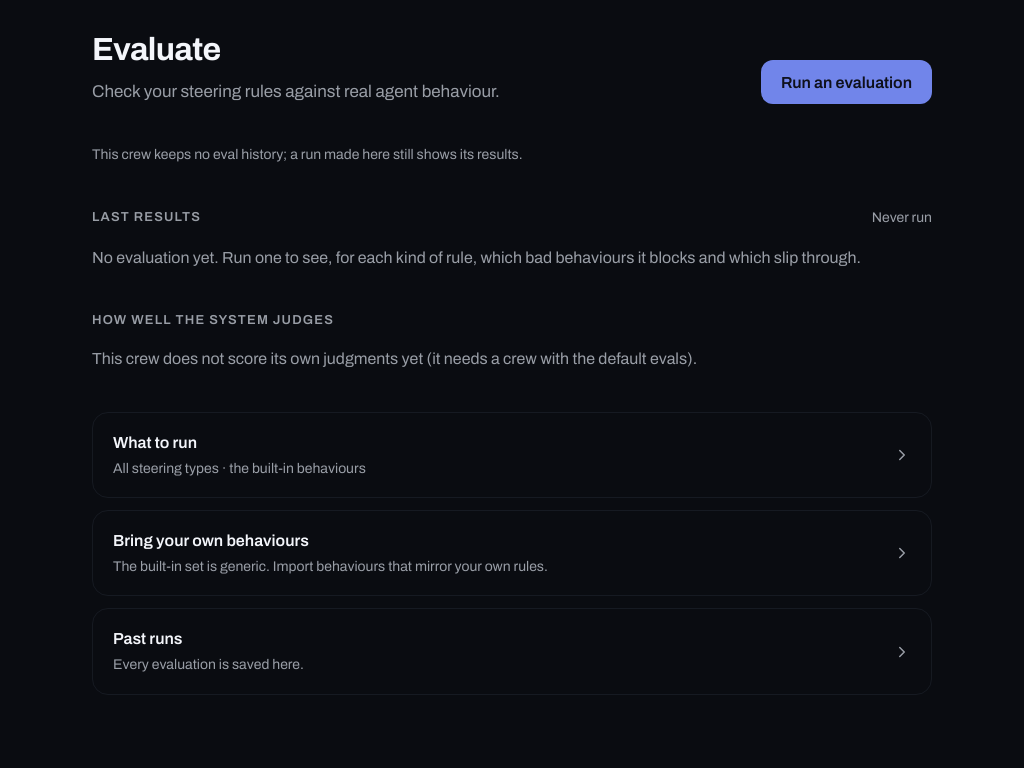
Test case: Evals — the run › degraded: "facet-only" renders the VISIBLE no-embedder notice beside the real numbers
Click the button with test id "testing-evals-run".
click(846, 82)  # box [761,60,932,104]
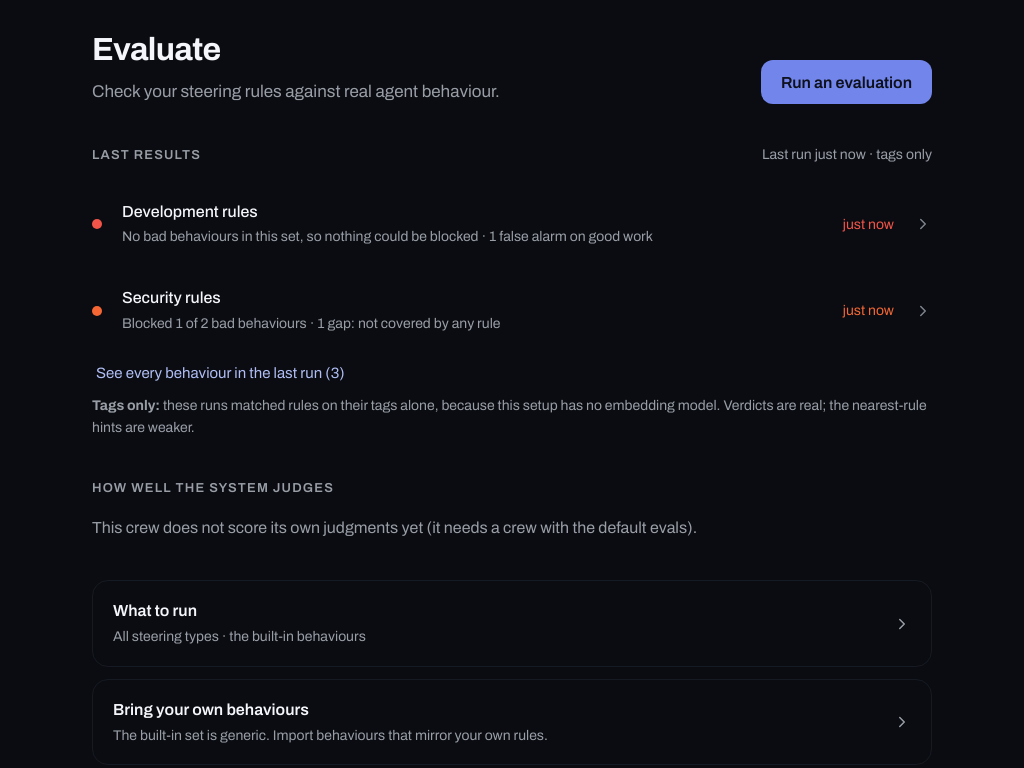
Now the element with test id "testing-evals-degraded" shows "Tags only: these runs matched rules on their tags alone, because this setup has no embedding model. Verdicts are real; the nearest-rule hints are weaker.", box [92,395,932,439]
